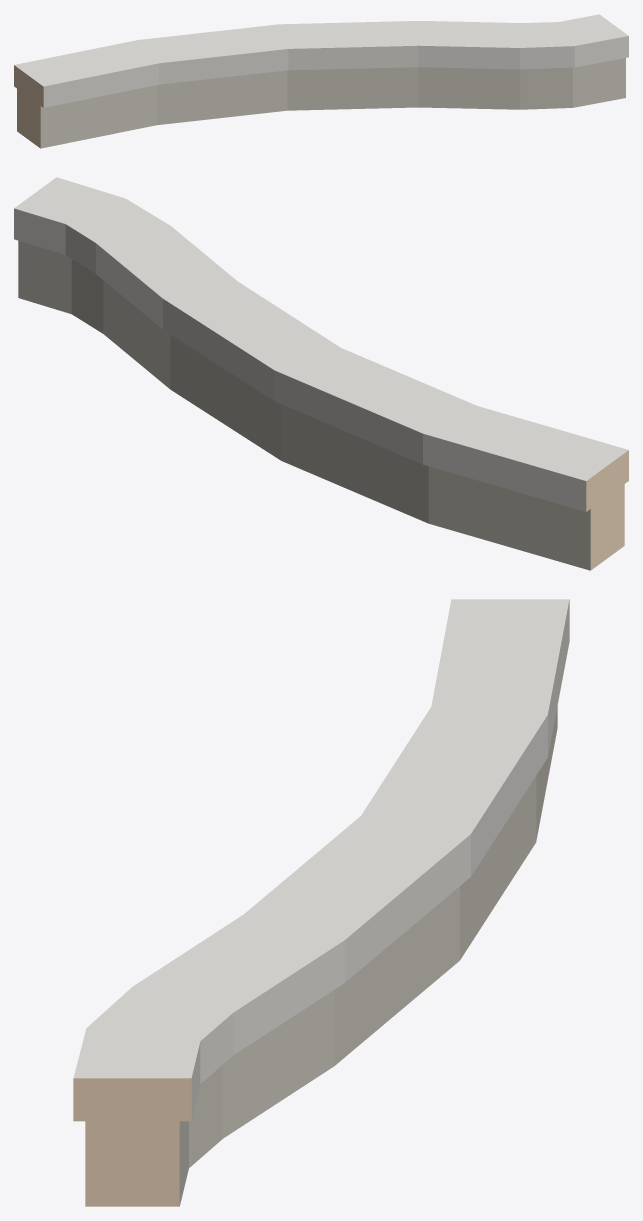
File: Tiered_Retaining_Wall_Esse_2x3_Top.glb
The picture shows the model from 3 angles, top to bottom: view 1: azimuth 30°, elevation 25°; view 2: azimuth 150°, elevation 25°; view 3: azimuth 270°, elevation 25°; orthographic projection. The views are drawn at different scales.
Parts seen in each view (by area): view 1: Tiered_Retaining_Wall_Esse_2x3_Top; view 2: Tiered_Retaining_Wall_Esse_2x3_Top; view 3: Tiered_Retaining_Wall_Esse_2x3_Top.
Part boxes in pixels (box(x1,y1,x2,y2)): Tiered_Retaining_Wall_Esse_2x3_Top: box(14, 14, 628, 148); Tiered_Retaining_Wall_Esse_2x3_Top: box(14, 177, 628, 570); Tiered_Retaining_Wall_Esse_2x3_Top: box(73, 599, 569, 1206).
Bounding box in the file's own units: 300 × 37.5 × 131.
